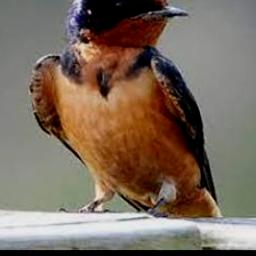Swallow: (28, 0, 222, 218)
